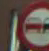No overtake: (12, 1, 47, 47)
